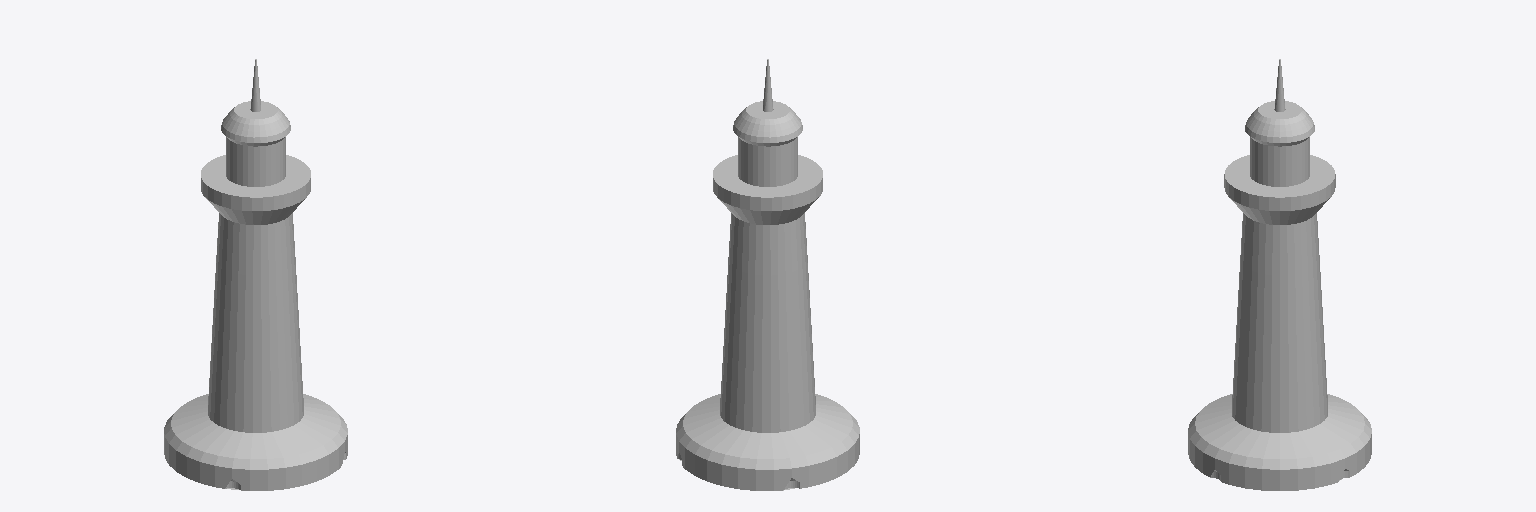
The model's file is Lighthouse_improved-Lighthouse_001.obj.
3 views of the same model, side by side, from view 1: azimuth 30°, elevation 25°; view 2: azimuth 150°, elevation 25°; view 3: azimuth 270°, elevation 25° (orthographic).
Parts seen in each view (by area): view 1: Lighthouse.001_Cylinder.007; view 2: Lighthouse.001_Cylinder.007; view 3: Lighthouse.001_Cylinder.007.
Part boxes in pixels (x1,y1,x2,y2): Lighthouse.001_Cylinder.007: (164,59,347,490); Lighthouse.001_Cylinder.007: (676,59,859,490); Lighthouse.001_Cylinder.007: (1188,59,1371,490).
Size of the model in its own units: 42 by 98.86 by 42.